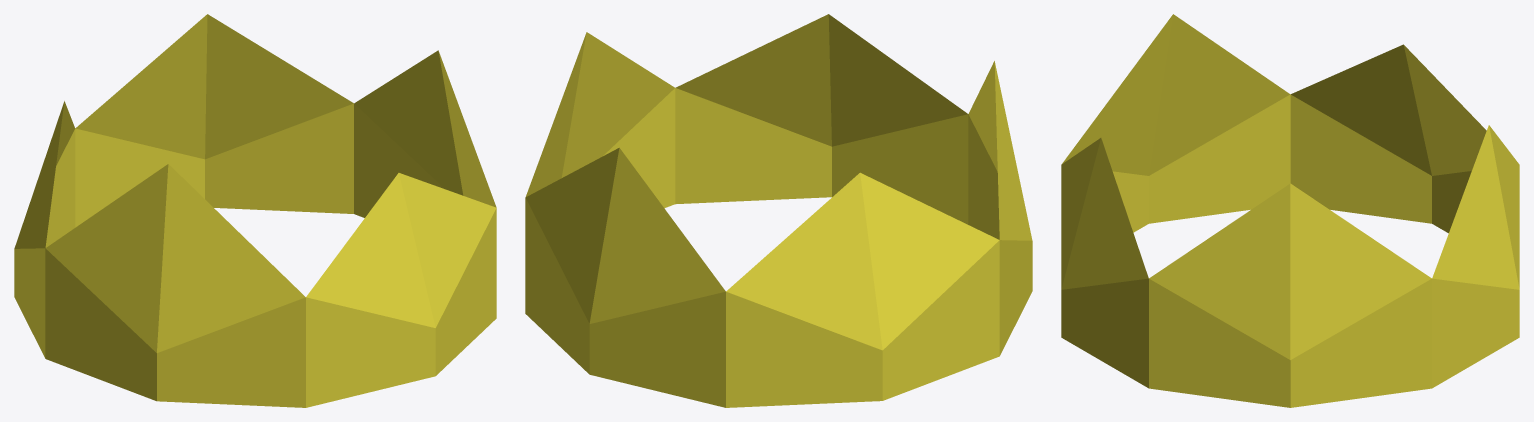
Rendered from Party_Hat_Yellow.glb.
The picture shows the model from 3 angles, left to right: view 1: azimuth 30°, elevation 25°; view 2: azimuth 150°, elevation 25°; view 3: azimuth 270°, elevation 25°; orthographic projection. The views are drawn at different scales.
Parts seen in each view (by area): view 1: PartyHat; view 2: PartyHat; view 3: PartyHat.
Part boxes in pixels (<box>): PartyHat: <box>14,14,496,407</box>; PartyHat: <box>525,14,1032,407</box>; PartyHat: <box>1061,14,1519,407</box>.
Bounding box in the file's own units: 0.32 × 0.1622 × 0.3043.
